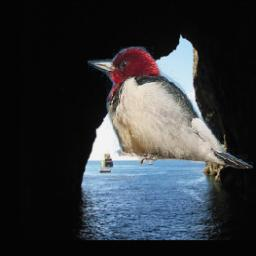Woodpecker: (88, 47, 253, 169)
